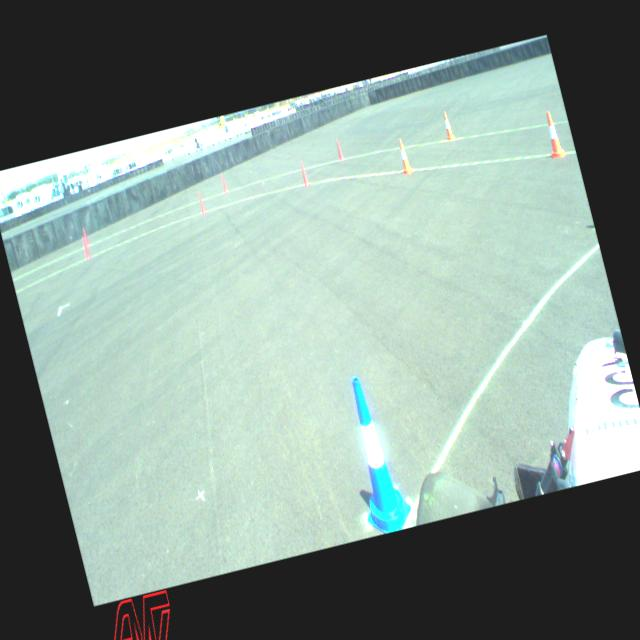blue_cone: (333, 370, 415, 536)
orange_cone: (541, 110, 565, 158), (395, 137, 412, 174), (440, 110, 454, 140)
unknown_cone: (298, 160, 310, 186), (80, 235, 91, 259), (196, 190, 207, 213), (334, 138, 344, 160), (220, 172, 228, 192), (82, 226, 90, 246)
